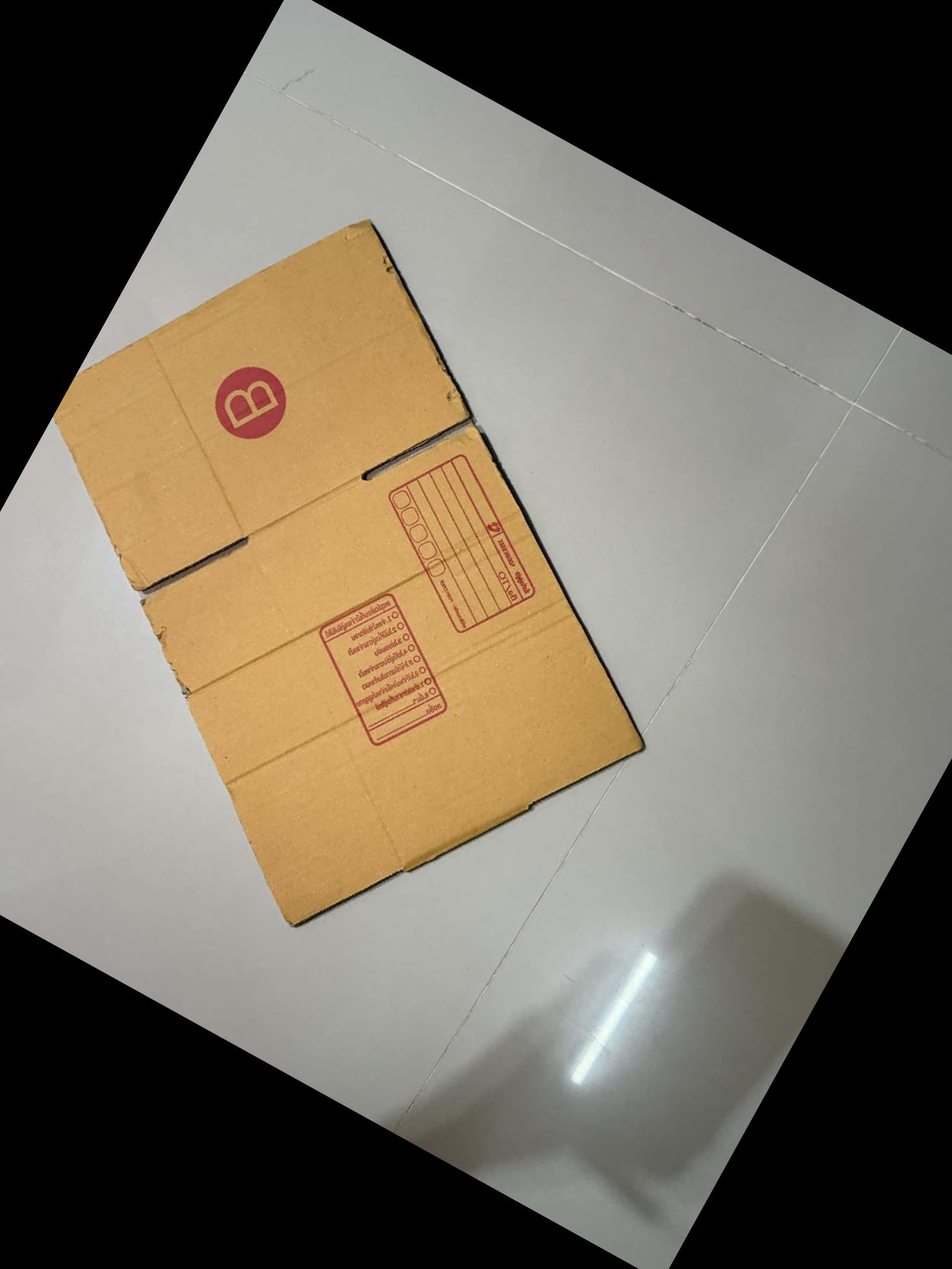box: (346, 429, 579, 657), (270, 564, 488, 779), (196, 350, 303, 454)
class0: (0, 108, 842, 1054)
